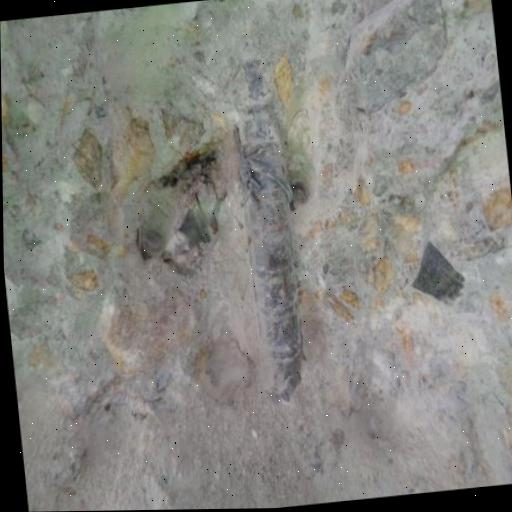exposed_rebar: (234, 105, 303, 400)
